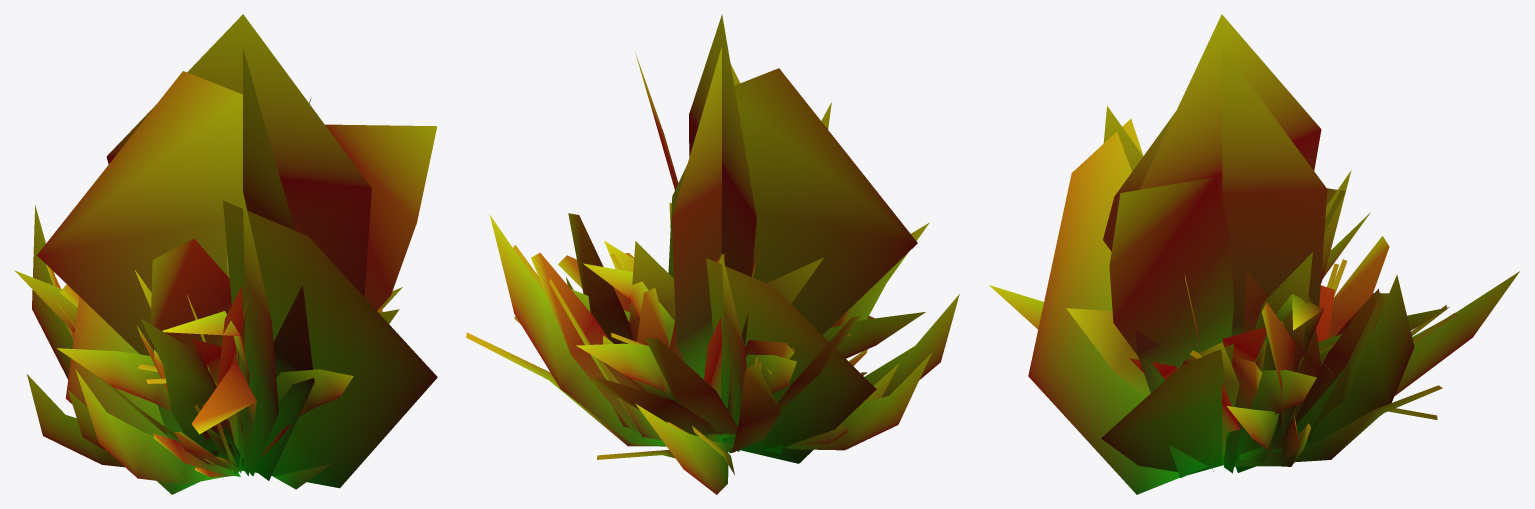
The model's file is tmjhcayia_Var1_LOD2.fbx.
3 views of the same model, side by side, from view 1: azimuth 30°, elevation 25°; view 2: azimuth 150°, elevation 25°; view 3: azimuth 270°, elevation 25° (orthographic). The views are drawn at different scales.
Visible parts, largest first — view 1: Var1_LOD2; view 2: Var1_LOD2; view 3: Var1_LOD2.
Part boxes in pixels (x1=…): Var1_LOD2: x1=14, y1=14, x2=437, y2=494; Var1_LOD2: x1=466, y1=14, x2=959, y2=494; Var1_LOD2: x1=989, y1=14, x2=1519, y2=494.
Bounding box in the file's own units: 23.03 × 25.12 × 26.41.
